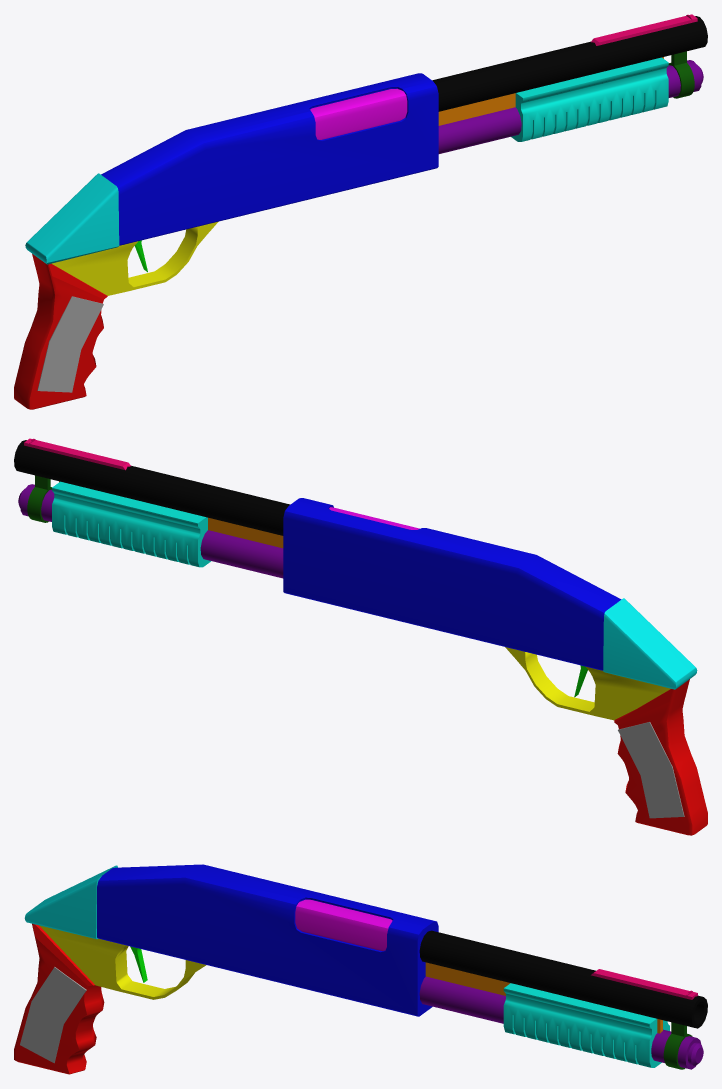
Rendered from pompe.fbx.
3 renders of one model, top to bottom at view 1: azimuth 30°, elevation 25°; view 2: azimuth 150°, elevation 25°; view 3: azimuth 330°, elevation 25°, orthographic.
Visible parts, largest first — view 1: polySurface2, Barrel, Charging_Handle24, Pistol_Grip, polySurface3, Grid, Hand_Grip, polySurface1, Barrel_Attachement, Canon_Attachement2, Front_Sight, Canon_Attachement; view 2: polySurface2, Barrel, Charging_Handle24, Pistol_Grip, polySurface3, Grid, Hand_Grip1, Barrel_Attachement, Canon_Attachement2, Front_Sight, Canon_Attachement; view 3: polySurface2, Barrel, Charging_Handle24, Pistol_Grip, Grid, Barrel_Attachement, Hand_Grip, polySurface1, polySurface3, Canon_Attachement2, Front_Sight, Canon_Attachement.
Boxes of the visible parts, x1,y1,x2,y2 form: polySurface2: [101, 73, 438, 245]; Barrel: [432, 16, 707, 111]; Charging_Handle24: [511, 57, 668, 141]; Pistol_Grip: [14, 254, 107, 409]; polySurface3: [25, 173, 119, 264]; Grid: [52, 221, 218, 295]; Hand_Grip: [37, 296, 103, 392]; polySurface1: [310, 88, 407, 139]; Barrel_Attachement: [438, 60, 703, 153]; Canon_Attachement2: [438, 57, 663, 125]; Front_Sight: [591, 14, 697, 45]; Canon_Attachement: [668, 51, 694, 98]; polySurface2: [283, 498, 621, 670]; Barrel: [14, 440, 290, 535]; Charging_Handle24: [52, 481, 211, 567]; Pistol_Grip: [614, 679, 707, 835]; polySurface3: [603, 598, 697, 689]; Grid: [505, 647, 670, 720]; Hand_Grip1: [618, 722, 684, 818]; Barrel_Attachement: [18, 484, 283, 578]; Canon_Attachement2: [59, 481, 283, 548]; Front_Sight: [24, 438, 130, 470]; Canon_Attachement: [27, 475, 51, 522]; polySurface2: [97, 864, 438, 1016]; Barrel: [419, 930, 707, 1028]; Charging_Handle24: [503, 983, 669, 1067]; Pistol_Grip: [14, 923, 104, 1074]; Grid: [39, 925, 206, 999]; Barrel_Attachement: [419, 976, 703, 1069]; Hand_Grip: [20, 967, 86, 1063]; polySurface1: [295, 899, 392, 950]; polySurface3: [24, 865, 117, 939]; Canon_Attachement2: [425, 962, 662, 1033]; Front_Sight: [591, 969, 697, 999]; Canon_Attachement: [663, 1022, 692, 1069].
Size of the model in its own units: 70.28 by 22.61 by 4.08.
